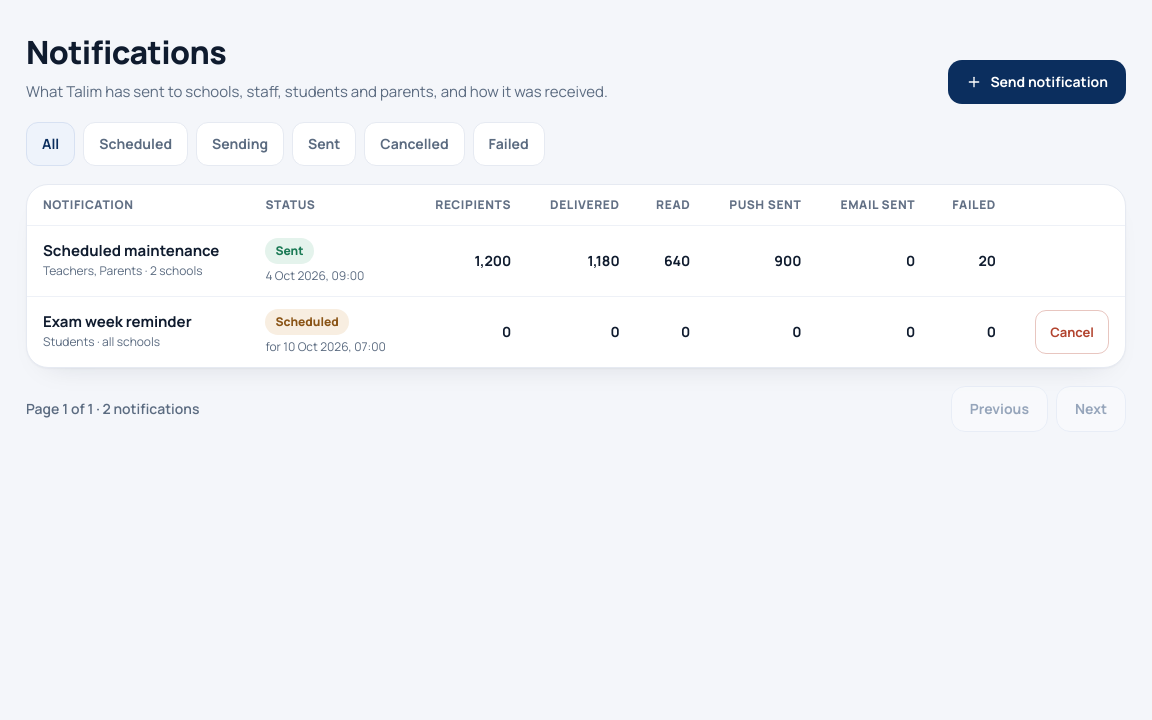
Test: Broadcast history › cancels a scheduled broadcast after confirming, then reloads
Click the button with aria-label "Cancel “Exam week reminder”": (1072, 332) top-left (1035, 310), bottom-right (1109, 354)
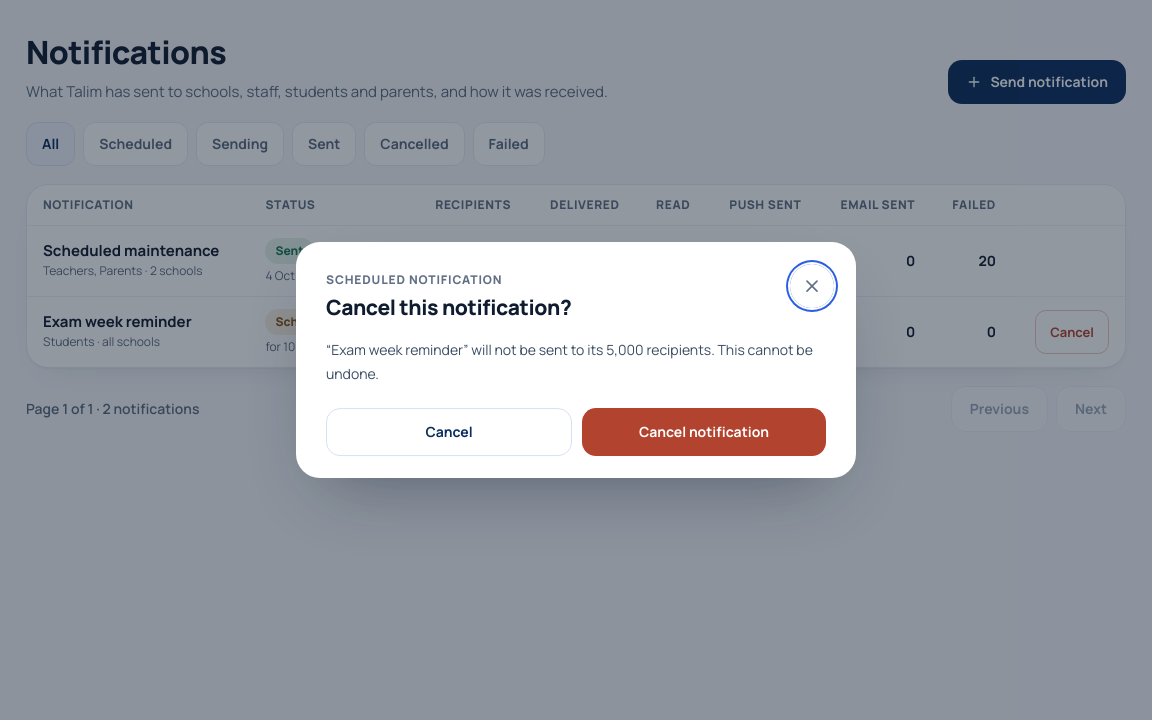
Check: the dialog "Cancel this notification?" shows "“Exam week reminder” will not be sent to its 5,000 recipients.", box top-left (296, 242), bottom-right (856, 478)
Click the button "Cancel notification": (704, 432) top-left (582, 408), bottom-right (826, 456)
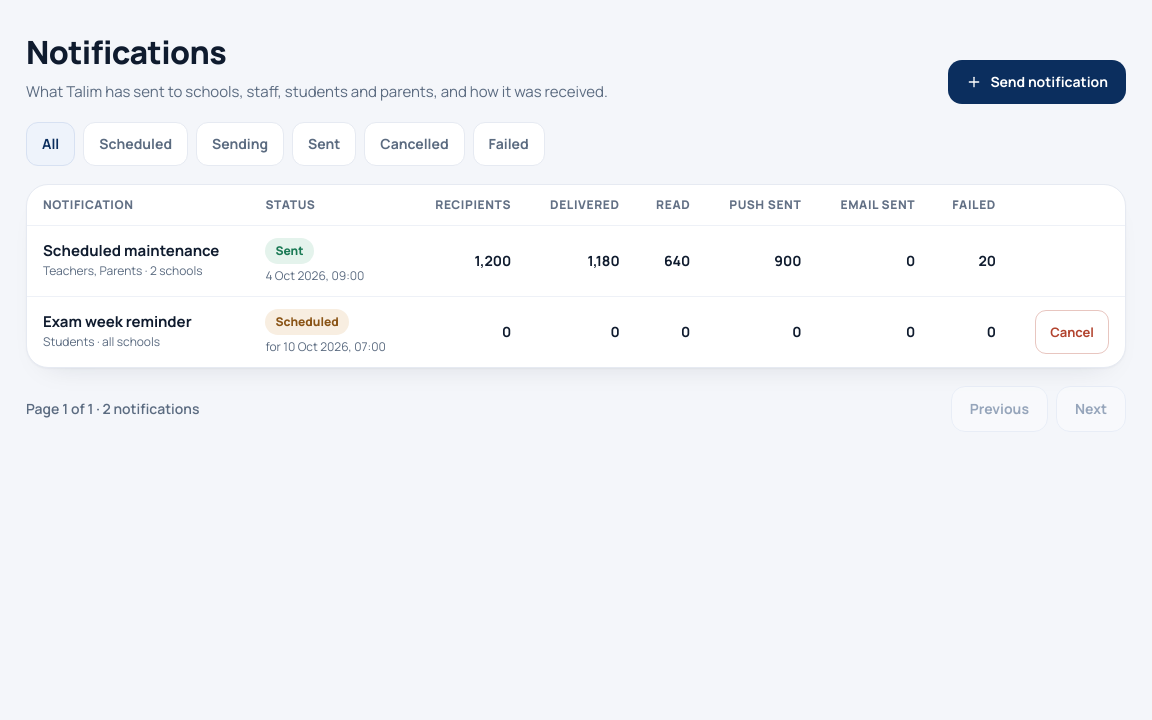
Check: the dialog is gone
